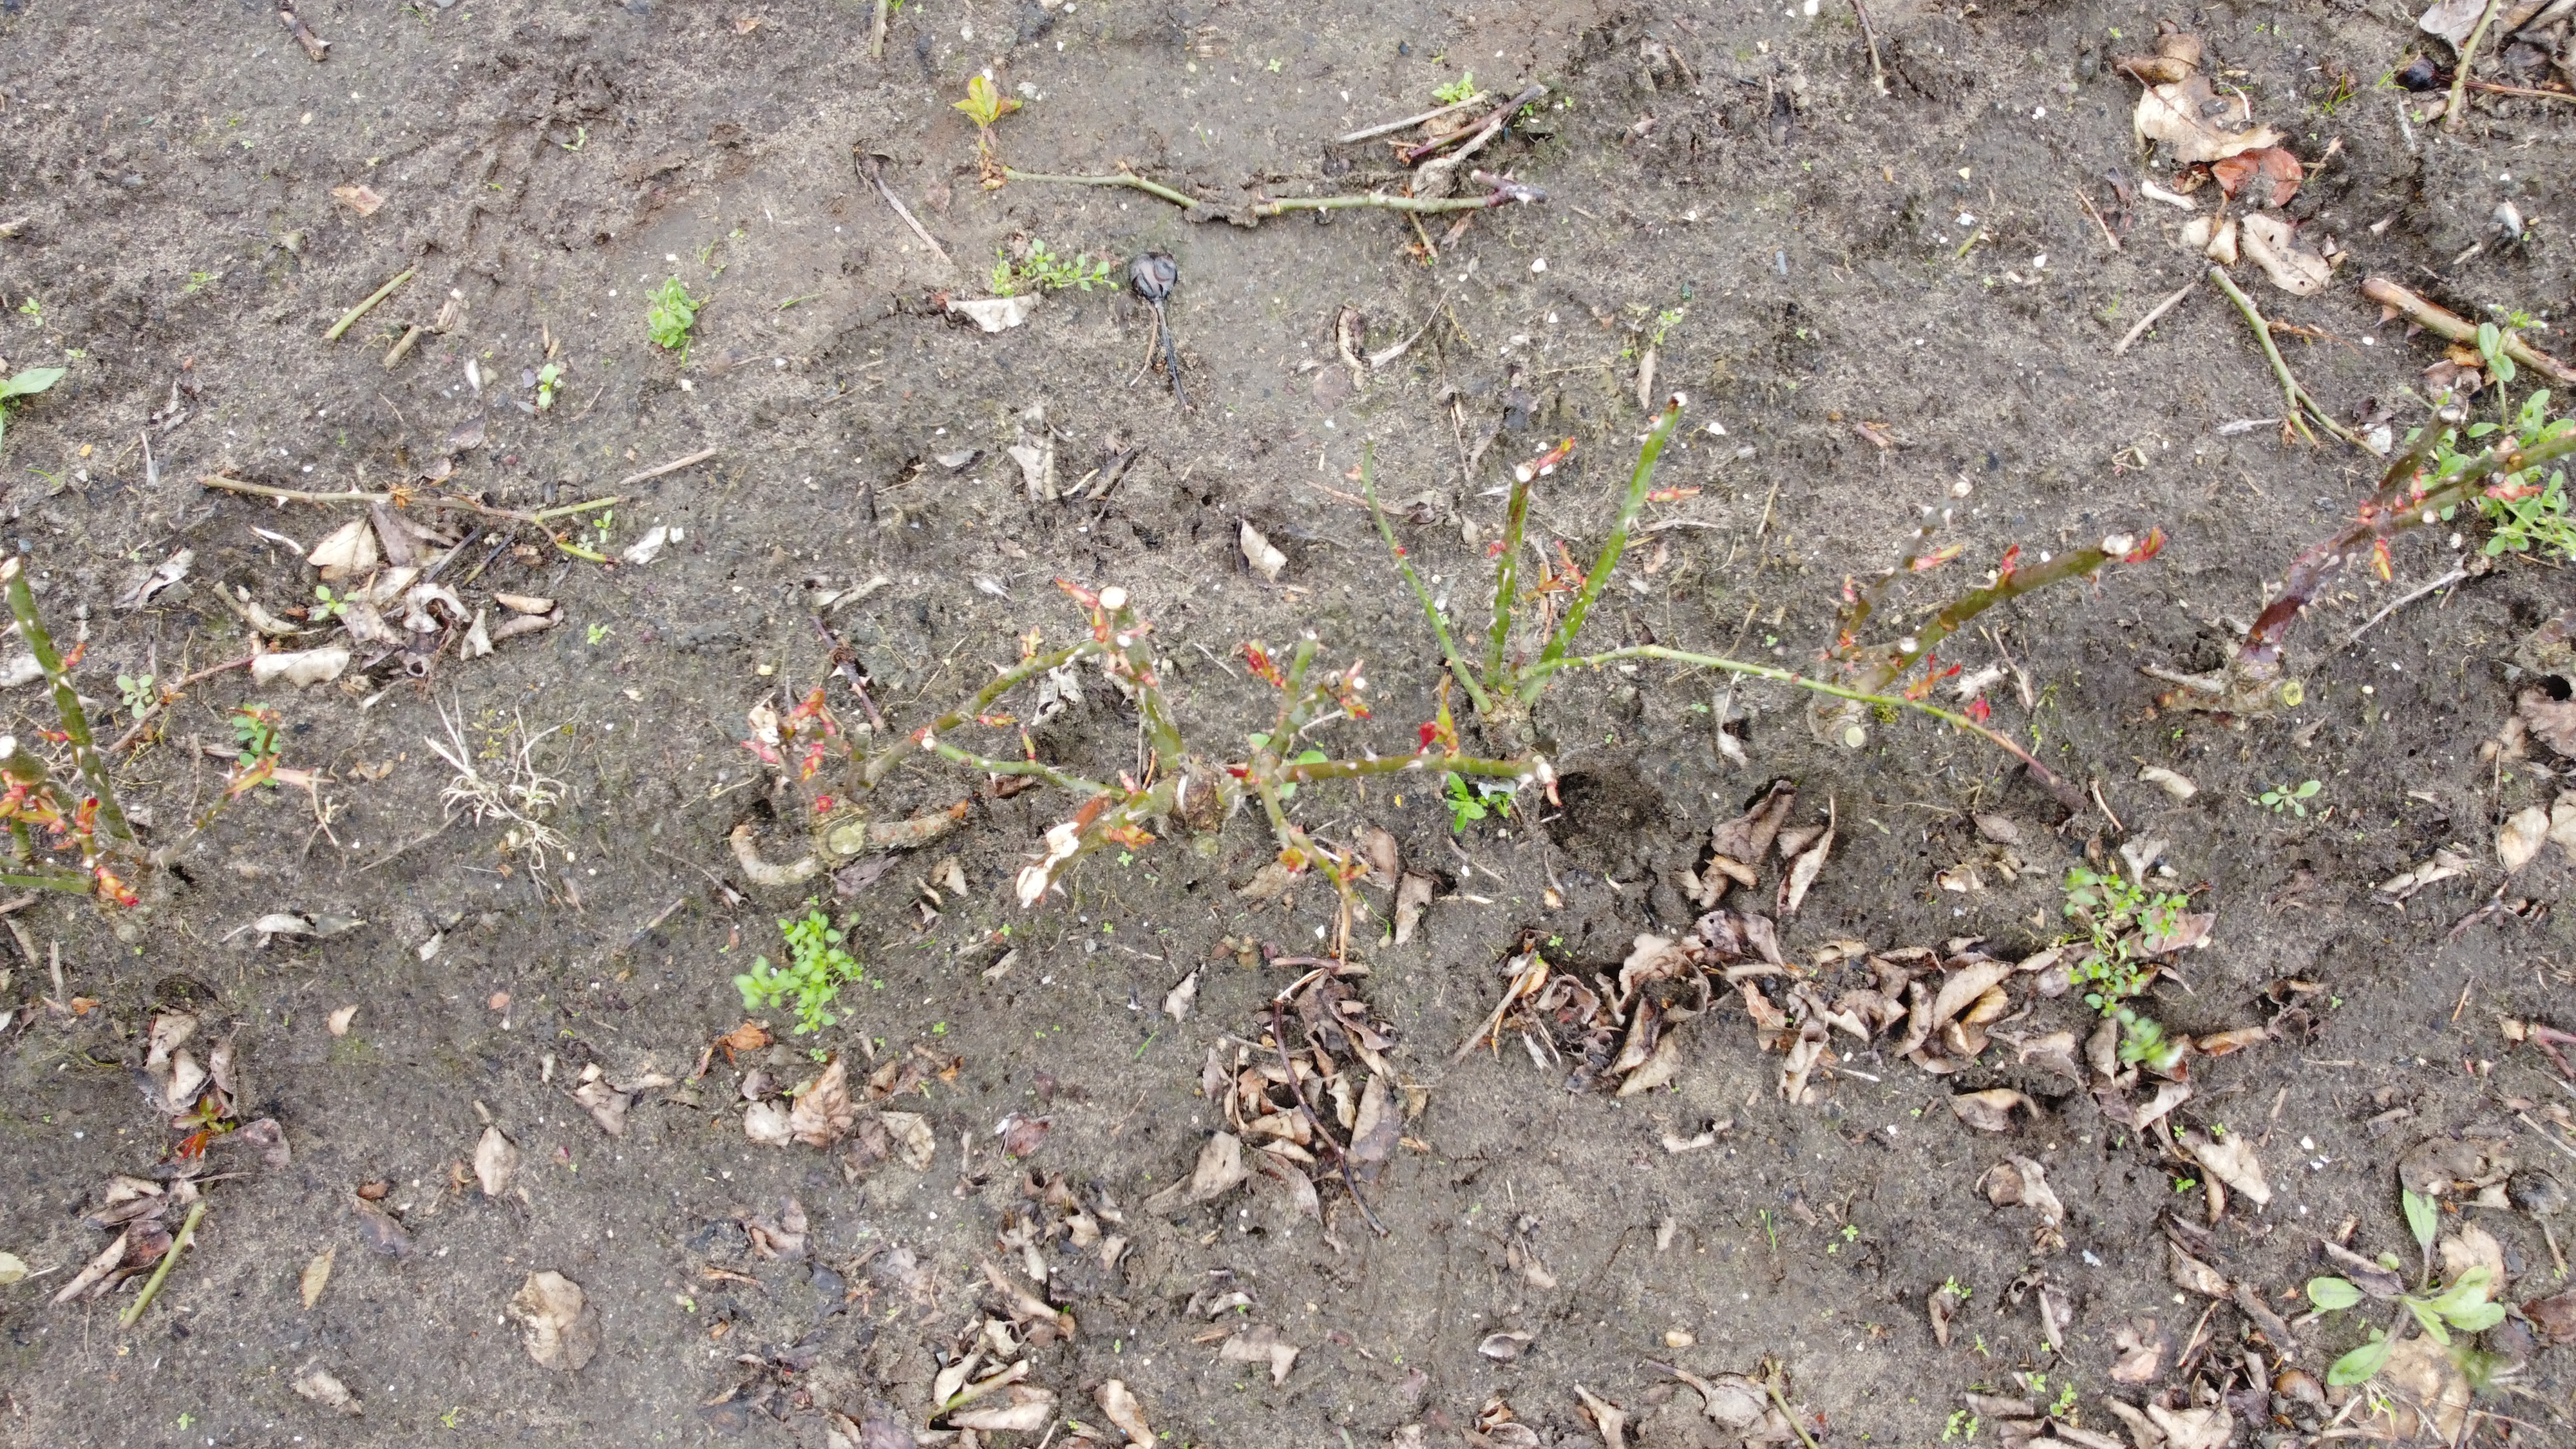Rose: (2166, 402, 2576, 717), (1398, 405, 1670, 816), (1019, 616, 1343, 895), (1782, 520, 2141, 757), (0, 554, 156, 913)
Weed: (2302, 1200, 2507, 1385), (2036, 853, 2208, 1042), (699, 901, 893, 1039), (984, 253, 1116, 295), (230, 701, 276, 778), (639, 280, 690, 347), (954, 73, 1003, 124), (2258, 778, 2316, 821), (1435, 67, 1476, 113), (534, 361, 563, 403)
